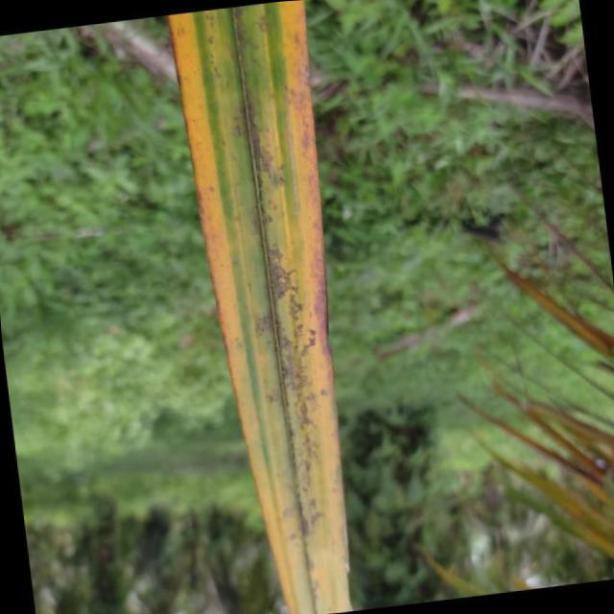Megnesium: (165, 0, 353, 614)
